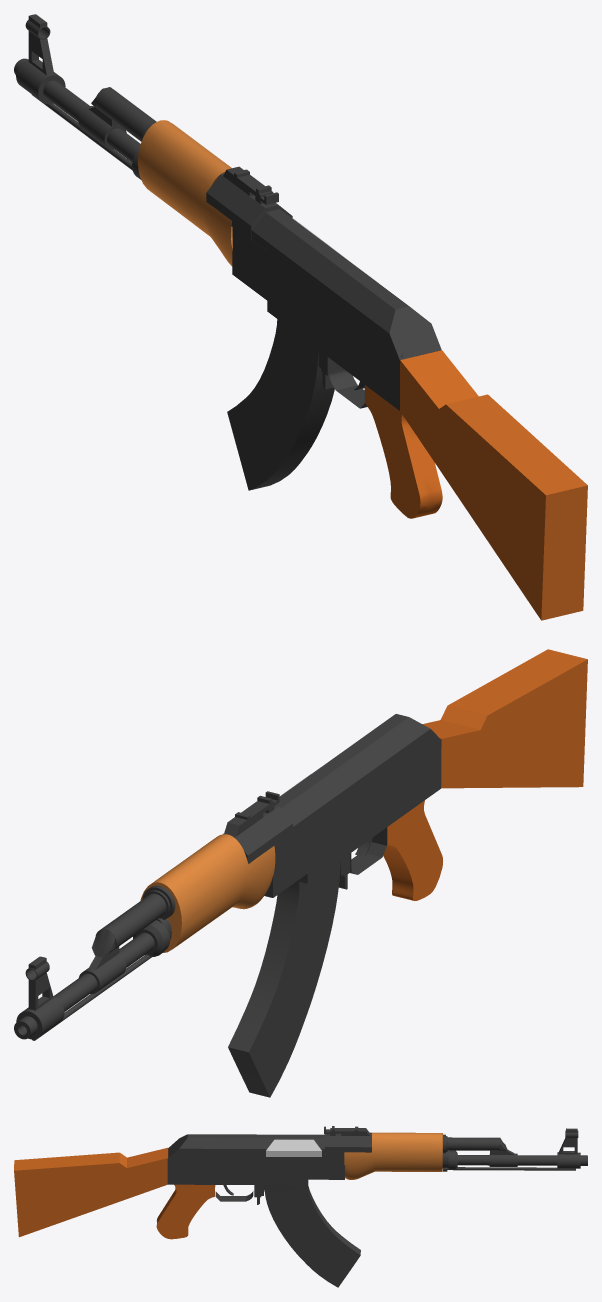
3 views of the same model, one above another, from view 1: azimuth 30°, elevation 25°; view 2: azimuth 150°, elevation 25°; view 3: azimuth 270°, elevation 25° (orthographic). The views are drawn at different scales.
Parts seen in each view (by area): view 1: Stock002, Obj011, Magazin012, Forearm007, Barrel 004, Pistol 003, Receive010, Gas tub008, Trigger009; view 2: Stock002, Obj011, Magazin012, Forearm007, Barrel 004, Pistol 003, Receive010, Gas tub008, Trigger009; view 3: Stock002, Obj011, Magazin012, Forearm007, Barrel 004, Pistol 003, Receive010, Ejector001, Gas tub008, Trigger009.
Boxes of the visible parts, bbox=[...] form: Stock002: bbox=[400, 350, 587, 620]; Obj011: bbox=[232, 209, 441, 410]; Magazin012: bbox=[227, 319, 334, 490]; Forearm007: bbox=[138, 120, 266, 266]; Barrel 004: bbox=[14, 14, 141, 179]; Pistol 003: bbox=[365, 385, 442, 518]; Receive010: bbox=[206, 166, 292, 240]; Gas tub008: bbox=[91, 87, 156, 141]; Trigger009: bbox=[329, 358, 367, 408]; Stock002: bbox=[422, 649, 587, 788]; Obj011: bbox=[264, 714, 441, 897]; Magazin012: bbox=[228, 860, 340, 1097]; Forearm007: bbox=[140, 834, 275, 952]; Barrel 004: bbox=[14, 918, 171, 1040]; Pistol 003: bbox=[383, 800, 442, 900]; Receive010: bbox=[223, 791, 292, 863]; Gas tub008: bbox=[91, 885, 175, 957]; Trigger009: bbox=[350, 827, 386, 874]; Stock002: bbox=[14, 1147, 168, 1237]; Obj011: bbox=[167, 1134, 344, 1204]; Magazin012: bbox=[264, 1185, 360, 1287]; Forearm007: bbox=[344, 1132, 442, 1179]; Barrel 004: bbox=[442, 1128, 587, 1171]; Pistol 003: bbox=[156, 1184, 215, 1239]; Receive010: bbox=[324, 1126, 371, 1154]; Ejector001: bbox=[266, 1139, 321, 1156]; Gas tub008: bbox=[443, 1134, 507, 1153]; Trigger009: bbox=[215, 1185, 253, 1201].
Bounding box in the file's own units: 3.63 × 20.79 × 68.77.
